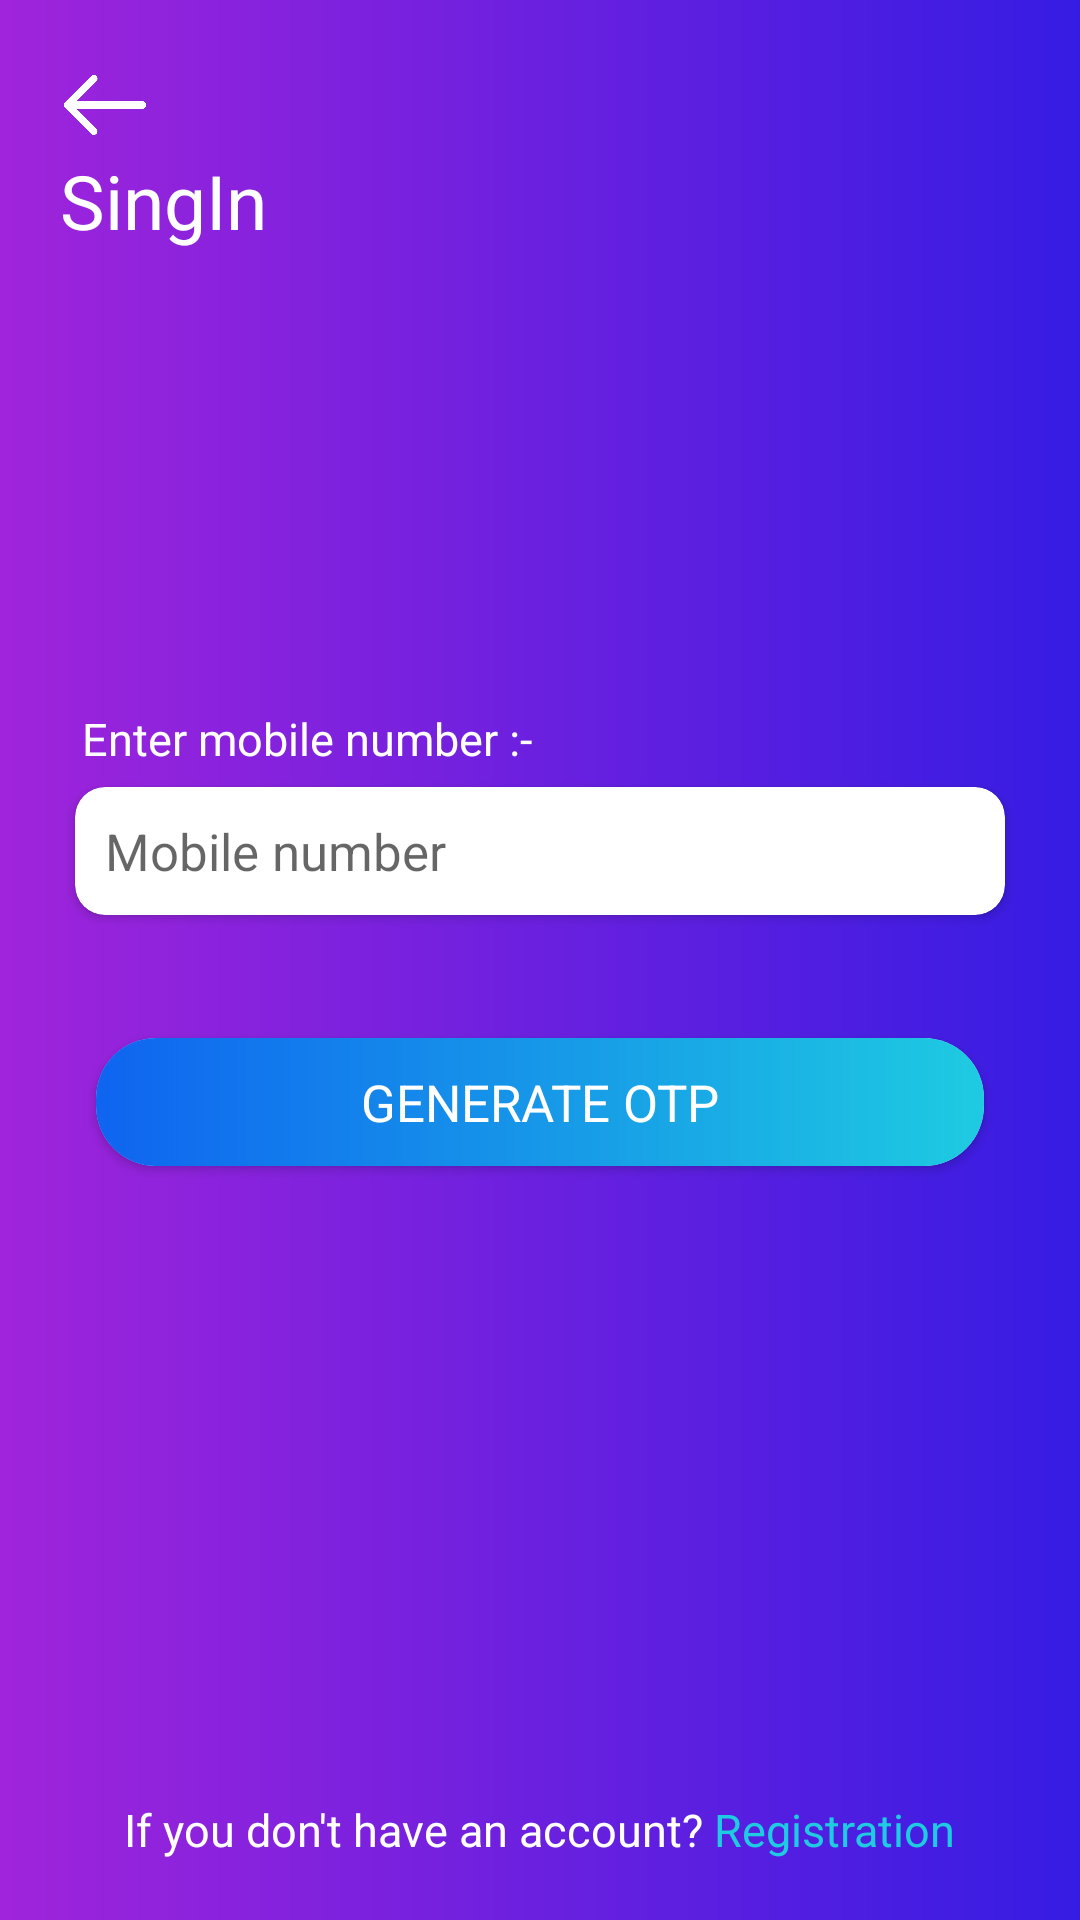

Named icons in this screenshot (1080 × 1920) and their centers, [x,y]:
login back: [105,105]
